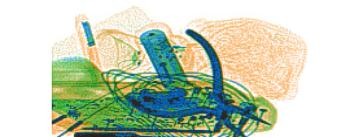battery: (140, 29, 187, 92)
